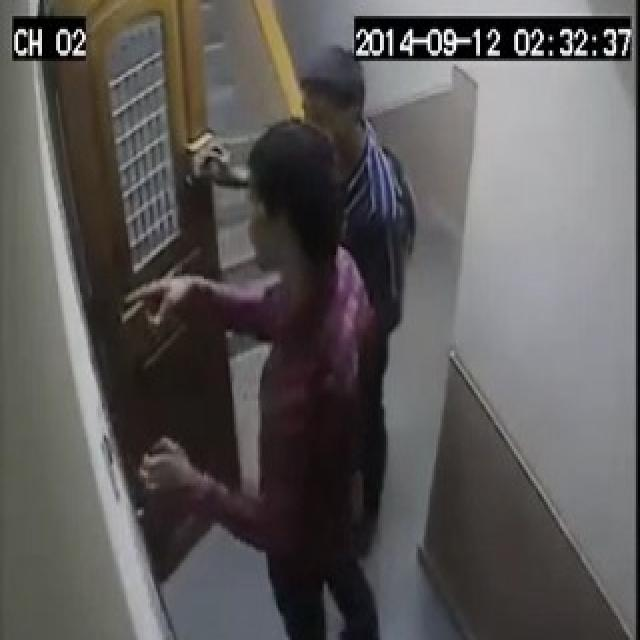thief: (184, 58, 420, 640)
